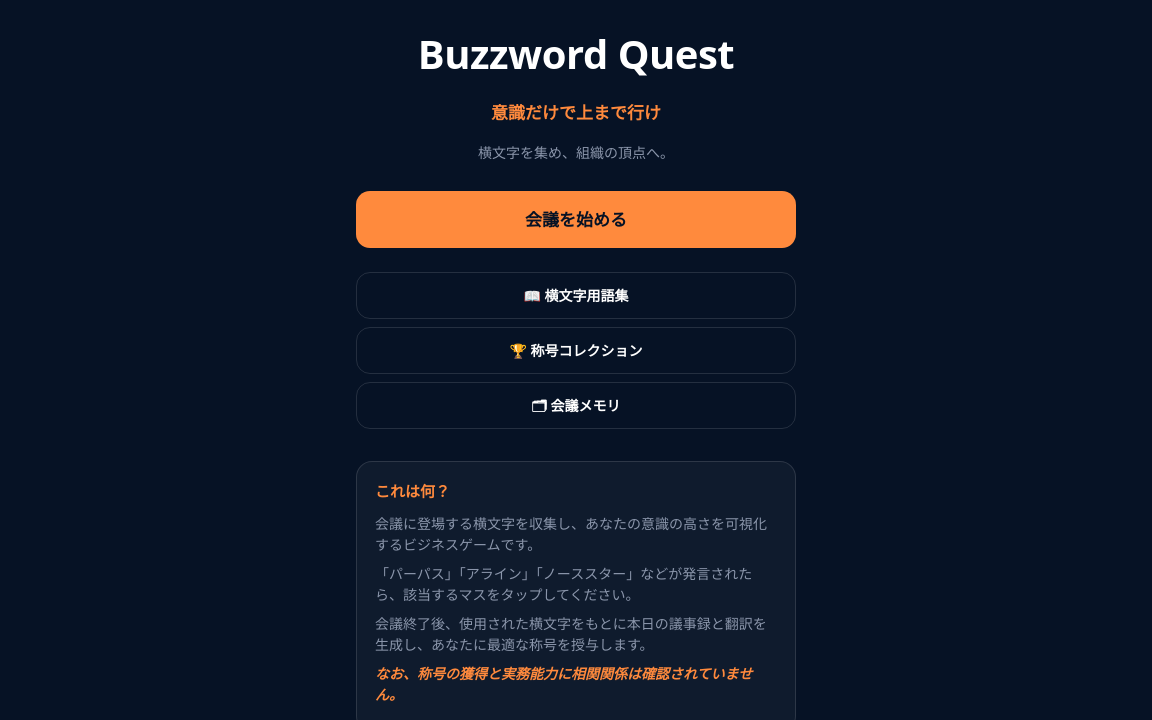
Test: App - camouflage feature removal › opens the glossary modal from the Bingo screen
The width and height of the screenshot is (1152, 720).
Click the button "会議を始める" at (576, 219), box [356,190,796,248]
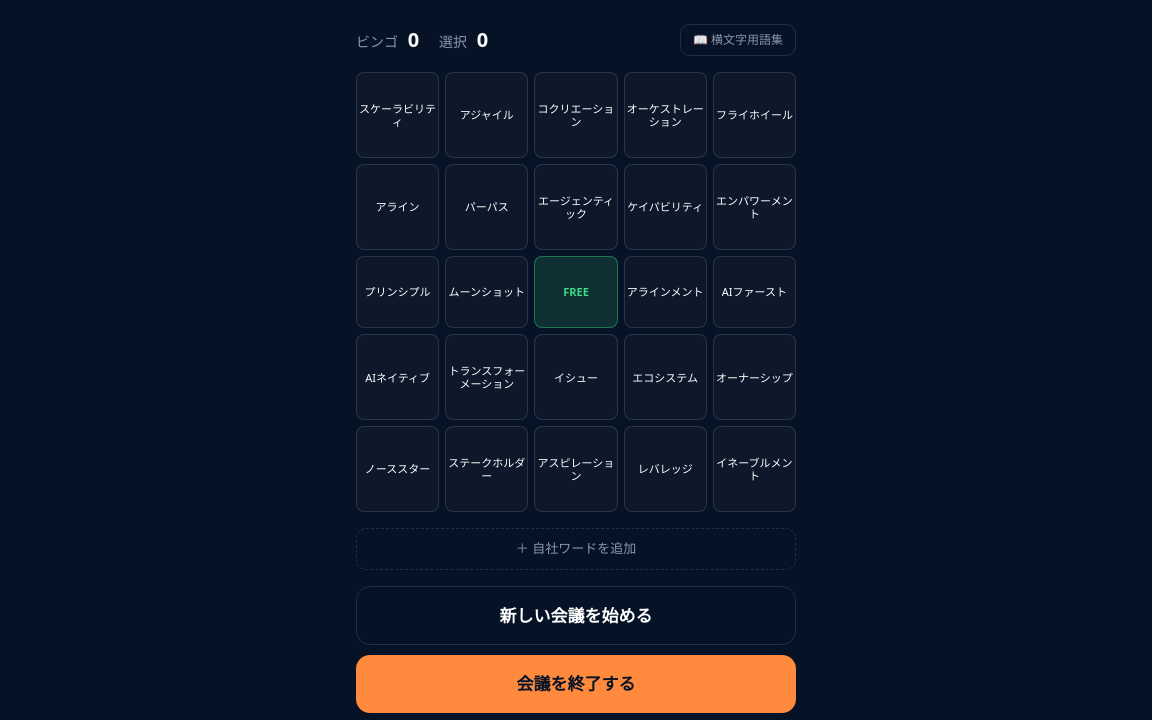
Click the button "📖 横文字用語集" at (738, 40), box [680,24,796,56]
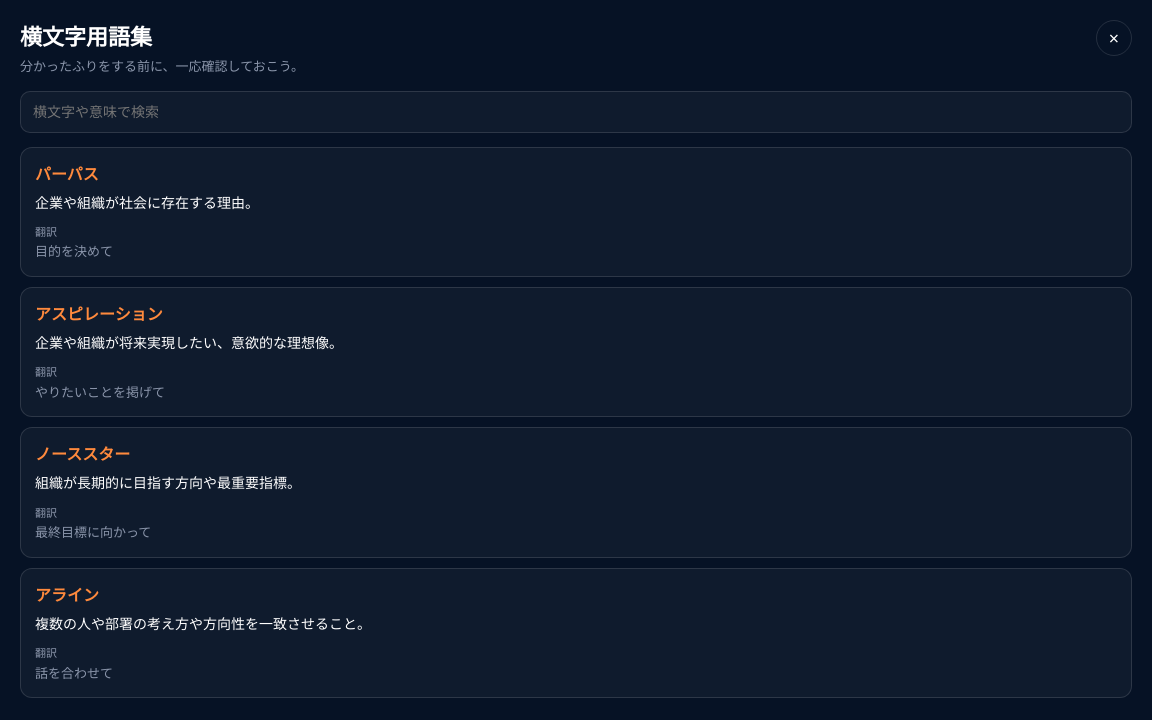
Check: the text "分かったふりをする前に、一応確認しておこう。" is shown, box [20,57,304,76]
